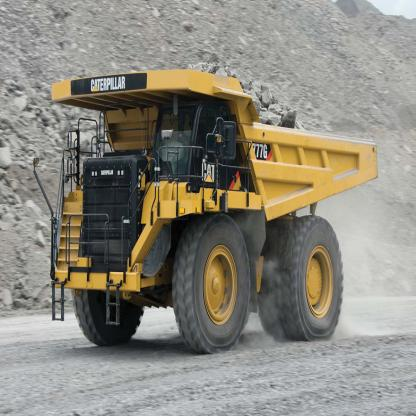dump_truck: (38, 66, 382, 356)
